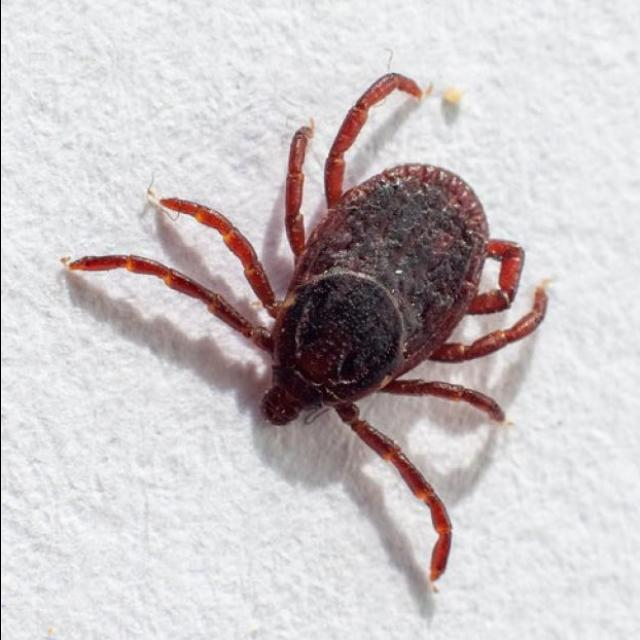Rhipicephalus Sanguineus-F: (59, 72, 546, 589)
